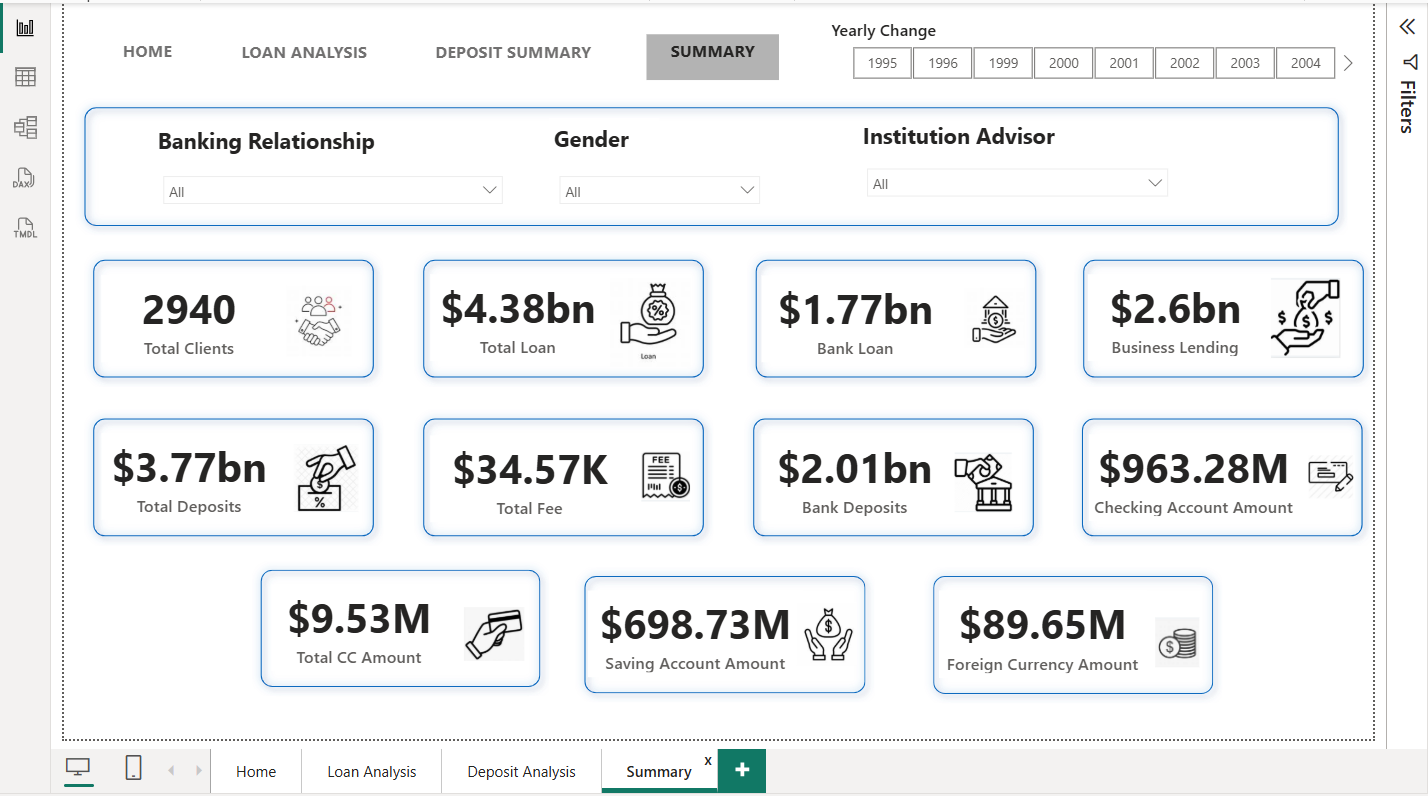

The page's visual inventory and layout, read from the dashboard file:
{"tool":"powerbi","page":{"name":"Summary","canvas":[1280,720],"ordinal":3},"visuals":[{"type":"shape","box":[342,242,292.6,133.3],"z":0},{"type":"shape","box":[19.8,242,292.6,133.3],"z":1000},{"type":"shape","box":[342.4,397.5,292.6,133.3],"z":2000},{"type":"shape","box":[19.8,397.5,292.6,133.3],"z":3000},{"type":"shape","box":[665,397.5,292.6,133.3],"z":4000},{"type":"shape","box":[987.4,397.5,292.6,133.3],"z":5000},{"type":"shape","box":[841.8,551.7,291.9,133.5],"z":6000},{"type":"shape","box":[500.6,551.1,292.9,132.7],"z":7000},{"type":"shape","box":[183.2,545.4,291.4,132.7],"z":8000},{"type":"shape","box":[987.7,242,292.6,133.3],"z":9000},{"type":"shape","box":[667.9,242,292.6,133.3],"z":10000},{"type":"shape","box":[11.5,92.3,1245.1,134.2],"z":11000},{"type":"card","fields":{"Values":["measures (2).total clients"]},"box":[37,266.7,171.6,85.2],"z":12000},{"type":"card","fields":{"Values":["measures (2).total clients"]},"box":[37,266.7,171.6,85.2],"z":13000},{"type":"card","fields":{"Values":["Sum(banking_case customer.Checking Accounts)"]},"box":[1002.5,422.2,204.9,85.2],"z":14000},{"type":"card","fields":{"Values":["Sum(banking_case customer.Bank Deposits)"]},"box":[682.7,422.2,182.7,85.2],"z":15000},{"type":"card","fields":{"Values":["Sum(banking_case customer.Fee Structure)"]},"box":[357.8,422.7,194.8,85.1],"z":16000},{"type":"card","fields":{"Values":["measures (2).Total deposits"]},"box":[37,421,171.6,85.2],"z":17000},{"type":"card","fields":{"Values":["Sum(banking_case customer.Business Lending)"]},"box":[1001.2,265.4,171.6,85.2],"z":18000},{"type":"card","fields":{"Values":["Sum(banking_case customer.Bank Loans)"]},"box":[682.7,266.7,184,85.2],"z":19000},{"type":"card","fields":{"Values":["measures (2).total loan"]},"box":[358,265.4,171.6,85.2],"z":20000},{"type":"card","fields":{"Values":["Sum(banking_case customer.Foreign Currency Account)"]},"box":[856.1,574.9,202.9,85.4],"z":21000},{"type":"card","fields":{"Values":["Sum(banking_case customer.Saving Accounts)"]},"box":[512.2,574.2,210.6,85.1],"z":22000},{"type":"card","fields":{"Values":["Sum(banking_case customer.Credit Card Balance)"]},"box":[203.4,568.4,171.7,85.1],"z":23000},{"type":"slicer","fields":{"Values":["banking_case customer.BRId"]},"box":[86.6,158.7,352,43.3],"z":24000},{"type":"slicer","fields":{"Values":["banking_case customer.GenderId"]},"box":[474.7,158.7,216.4,43.3],"z":25000},{"type":"slicer","fields":{"Values":["banking_case customer.IAId"]},"box":[774.8,151.5,314.5,44.7],"z":26000},{"type":"textbox","box":[53.1,30.9,113.6,44.4],"z":27000},{"type":"textbox","box":[169.1,32.1,172.8,43.2],"z":28000},{"type":"textbox","box":[358,32.1,188.9,48.1],"z":29000},{"type":"textbox","box":[569.5,30.3,129.9,44.5],"z":30000},{"type":"actionButton","box":[37,30.9,123.5,44.4],"z":31000},{"type":"actionButton","box":[169.1,30.9,145.7,44.4],"z":32000},{"type":"actionButton","box":[358,30.9,161.7,44.4],"z":33000},{"type":"textbox","box":[474.7,112.5,108.2,39],"z":34000},{"type":"textbox","box":[86.6,115.4,232.3,43.3],"z":35000},{"type":"textbox","box":[776.2,109.6,212.1,44.7],"z":36000},{"type":"image","box":[209.2,271.2,80.8,79.4],"z":37000},{"type":"image","box":[529.5,264,88,96.7],"z":38000},{"type":"image","box":[215,427.1,79.4,80.8],"z":39000},{"type":"image","box":[1173,264,83.7,88],"z":40000},{"type":"image","box":[1207.6,428.5,59.2,70.7],"z":41000},{"type":"image","box":[711.3,581.4,69.3,73.6],"z":42000},{"type":"image","box":[386.7,580,69.3,75],"z":43000},{"type":"image","box":[1062.5,590.9,53.4,69.4],"z":44000},{"type":"image","box":[875.8,268.4,69.3,80.8],"z":45000},{"type":"image","box":[865.7,431.4,70.7,75],"z":46000},{"type":"slicer","title":"Yearly Change","fields":{"Values":["banking_case customer.Year"]},"box":[745.7,14.2,521.5,65.9],"z":47000},{"type":"image","box":[558.9,423.8,58.3,79.6],"z":48000}]}

Visuals, with their boxes on the page's 1280x720 design canvas (x1, y1, x2, y2). These are canvas units, not pixel positions in the 1428x796 screenshot, which may show the page scaled, cropped or inside an application window:
shape: 342,242,635,375
shape: 20,242,312,375
shape: 342,398,635,531
shape: 20,398,312,531
shape: 665,398,958,531
shape: 987,398,1280,531
shape: 842,552,1134,685
shape: 501,551,794,684
shape: 183,545,475,678
shape: 988,242,1280,375
shape: 668,242,960,375
shape: 12,92,1257,226
card - measures (2).total clients: 37,267,209,352
card - measures (2).total clients: 37,267,209,352
card - Sum(banking_case customer.Checking Accounts): 1002,422,1207,507
card - Sum(banking_case customer.Bank Deposits): 683,422,865,507
card - Sum(banking_case customer.Fee Structure): 358,423,553,508
card - measures (2).Total deposits: 37,421,209,506
card - Sum(banking_case customer.Business Lending): 1001,265,1173,351
card - Sum(banking_case customer.Bank Loans): 683,267,867,352
card - measures (2).total loan: 358,265,530,351
card - Sum(banking_case customer.Foreign Currency Account): 856,575,1059,660
card - Sum(banking_case customer.Saving Accounts): 512,574,723,659
card - Sum(banking_case customer.Credit Card Balance): 203,568,375,654
slicer - banking_case customer.BRId: 87,159,439,202
slicer - banking_case customer.GenderId: 475,159,691,202
slicer - banking_case customer.IAId: 775,152,1089,196
textbox: 53,31,167,75
textbox: 169,32,342,75
textbox: 358,32,547,80
textbox: 570,30,699,75
actionButton: 37,31,160,75
actionButton: 169,31,315,75
actionButton: 358,31,520,75
textbox: 475,112,583,152
textbox: 87,115,319,159
textbox: 776,110,988,154
image: 209,271,290,351
image: 530,264,618,361
image: 215,427,294,508
image: 1173,264,1257,352
image: 1208,428,1267,499
image: 711,581,781,655
image: 387,580,456,655
image: 1062,591,1116,660
image: 876,268,945,349
image: 866,431,936,506
"Yearly Change" slicer: 746,14,1267,80
image: 559,424,617,503
